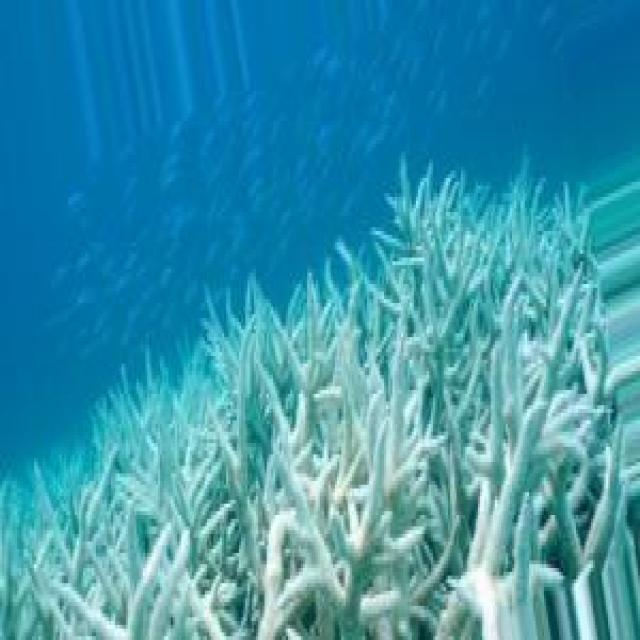bleached coral: (491, 364, 548, 572), (390, 360, 452, 545), (284, 454, 354, 564), (305, 345, 369, 424), (582, 337, 619, 462), (177, 523, 235, 595), (393, 568, 448, 640), (90, 572, 137, 629)
healthy coral: (512, 223, 589, 303), (397, 193, 474, 269), (0, 473, 75, 542), (132, 371, 183, 428), (96, 451, 134, 507), (260, 295, 294, 356)
